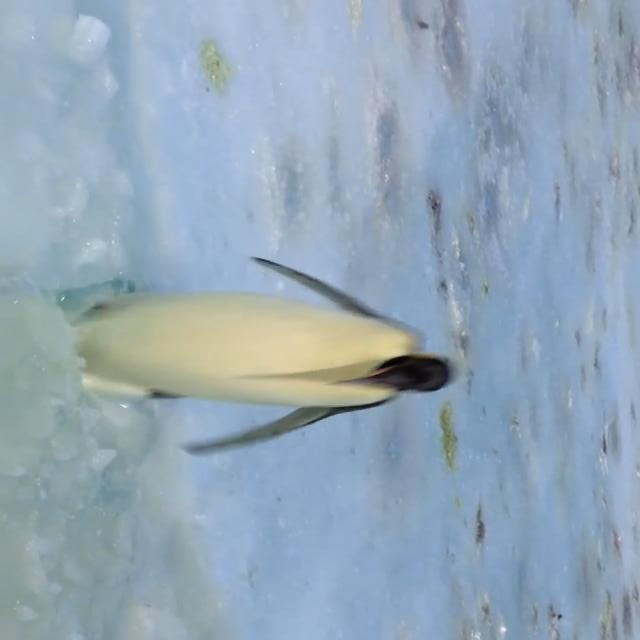penguin: (71, 256, 452, 457)
